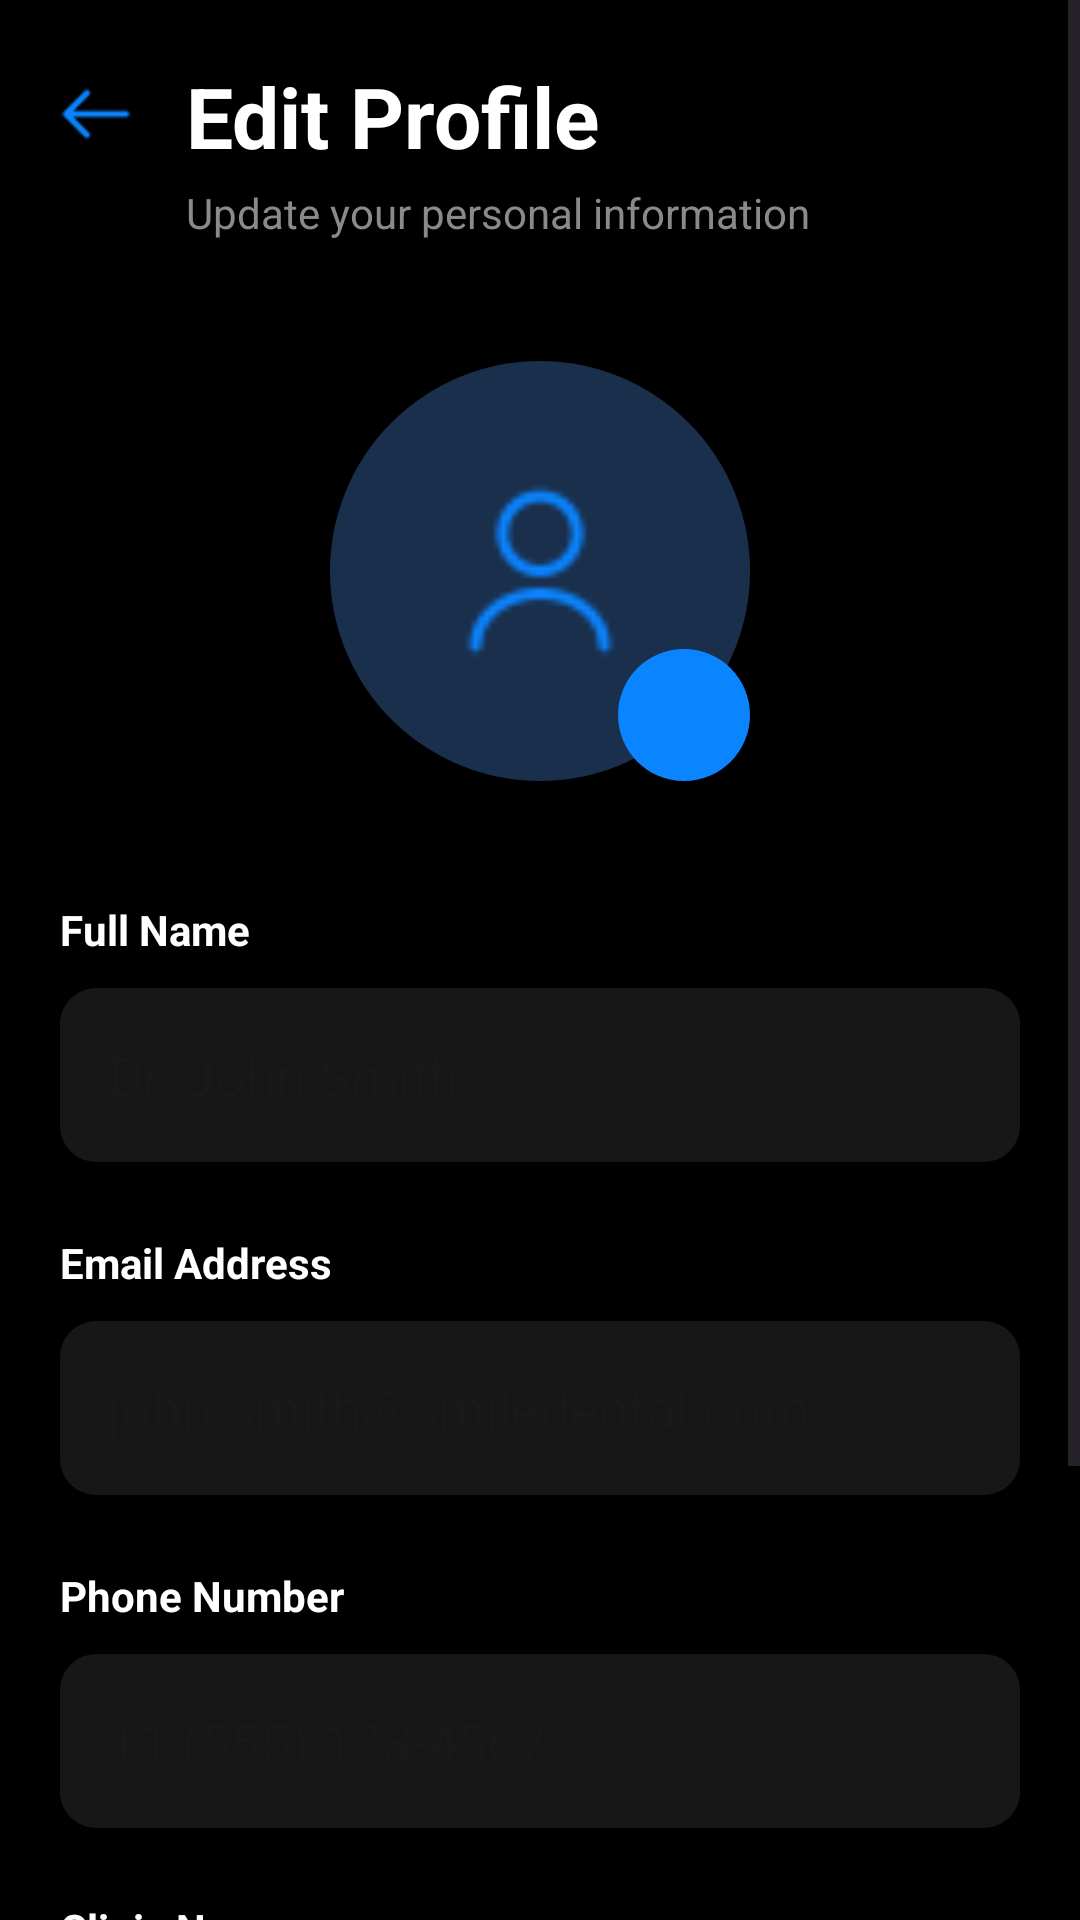

Named icons in this screenshot (1080 × 1920) and their bounding boxes, (x1, y1, x2, y2):
back: (62, 89, 130, 139)
profile: (466, 486, 614, 655)
